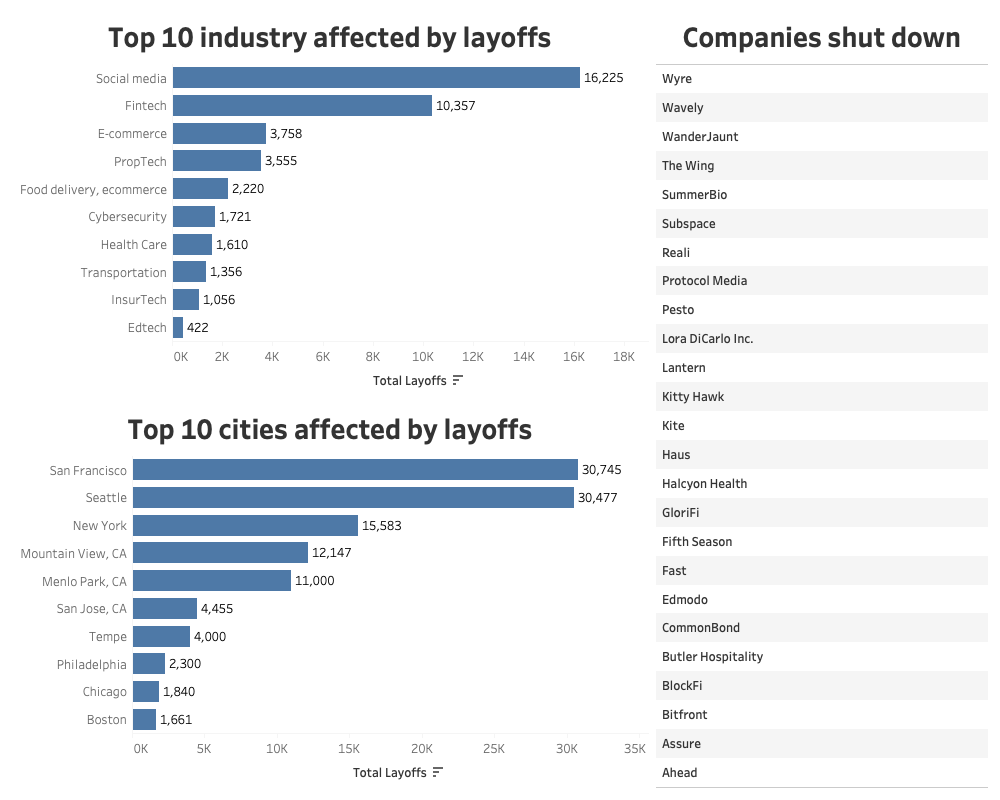

The dashboard page shown, as its layout file describes it:
{"tool":"tableau","page":{"name":"Dashboard 1","canvas":[1000,800],"ordinal":0},"visuals":[{"type":"worksheet","title":"Top 10 industry affected by layoffs","mark":"Automatic","rows":["industry"],"cols":["total_layoffs"],"box":[8,8,644,392]},{"type":"worksheet","title":"Companies shut down","mark":"Automatic","rows":["company"],"box":[652,8,340,784]},{"type":"worksheet","title":"Top 10 cities affected by layoffs","mark":"Automatic","rows":["headquarter_location"],"cols":["total_layoffs"],"box":[8,400,644,392]}]}

Visuals, with their boxes in screenshot pixels (x1, y1, x2, y2), scaled from the page's 1000x800 canvas onto the 1000x800 screenshot:
"Top 10 industry affected by layoffs" worksheet: region(8, 8, 652, 400)
"Companies shut down" worksheet: region(652, 8, 992, 792)
"Top 10 cities affected by layoffs" worksheet: region(8, 400, 652, 792)
